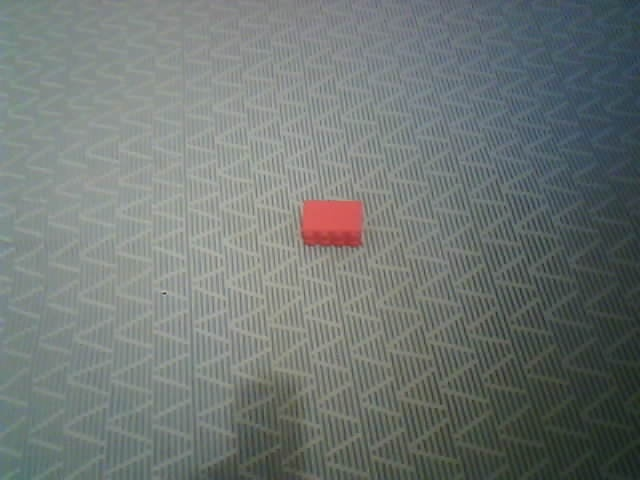lego: (301, 198, 364, 246)
